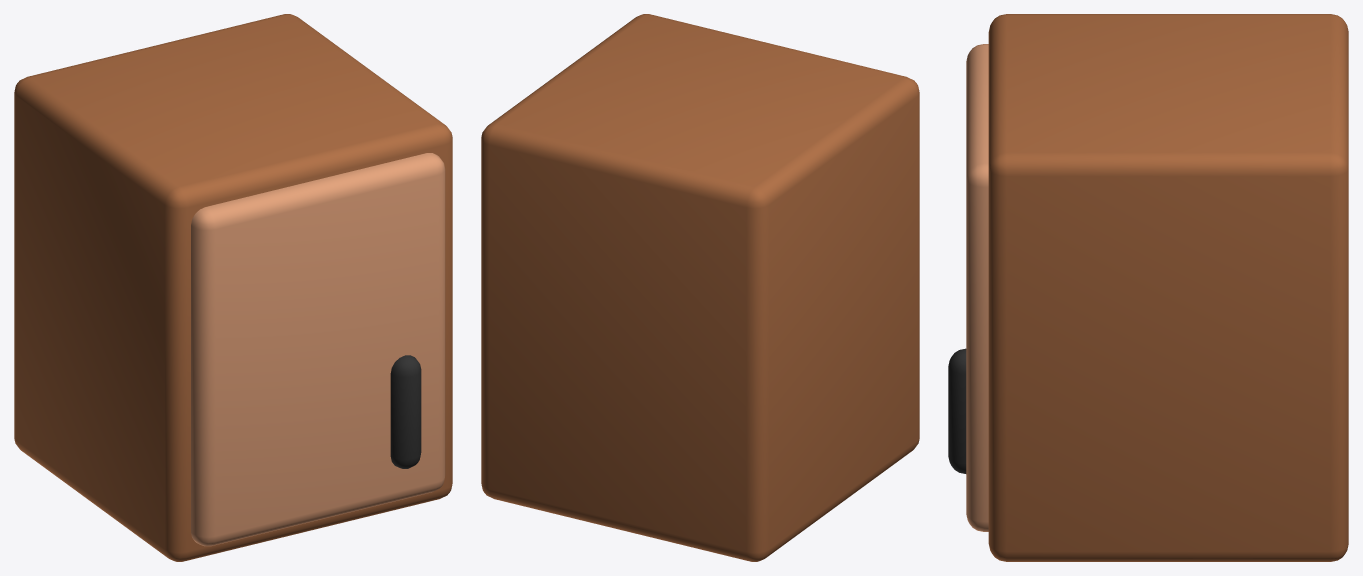
Rendered from tumba_verh_40x40x50_1.glb.
3 views of the same model, side by side, from view 1: azimuth 30°, elevation 25°; view 2: azimuth 150°, elevation 25°; view 3: azimuth 270°, elevation 25° (orthographic). The views are drawn at different scales.
Visible parts, largest first — view 1: Cube.044; view 2: Cube.044; view 3: Cube.044.
Part boxes in pixels (box(x1,y1,x2,y2)): Cube.044: box(14, 14, 452, 561); Cube.044: box(481, 14, 919, 561); Cube.044: box(948, 14, 1348, 561).
Bounding box in the file's own units: 0.4 × 0.5 × 0.445.
